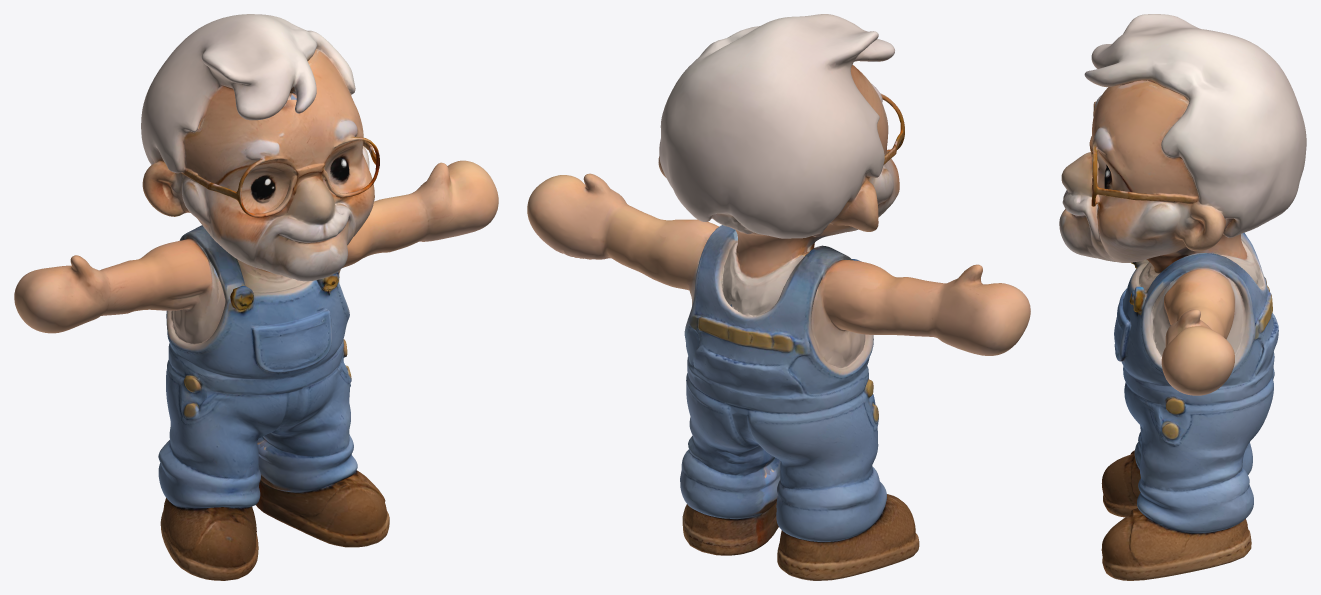
Rendered from donald.glb.
The picture shows the model from 3 angles, left to right: view 1: azimuth 30°, elevation 25°; view 2: azimuth 150°, elevation 25°; view 3: azimuth 270°, elevation 25°; orthographic projection. The views are drawn at different scales.
Parts seen in each view (by area): view 1: donald; view 2: donald; view 3: donald.
Boxes of the visible parts, x1=… form: donald: x1=14, y1=14, x2=498, y2=580; donald: x1=527, y1=14, x2=1030, y2=580; donald: x1=1059, y1=14, x2=1306, y2=580.
Size of the model in its own units: 0.9555 by 0.9928 by 0.4395.
1 material, 1 textured.
